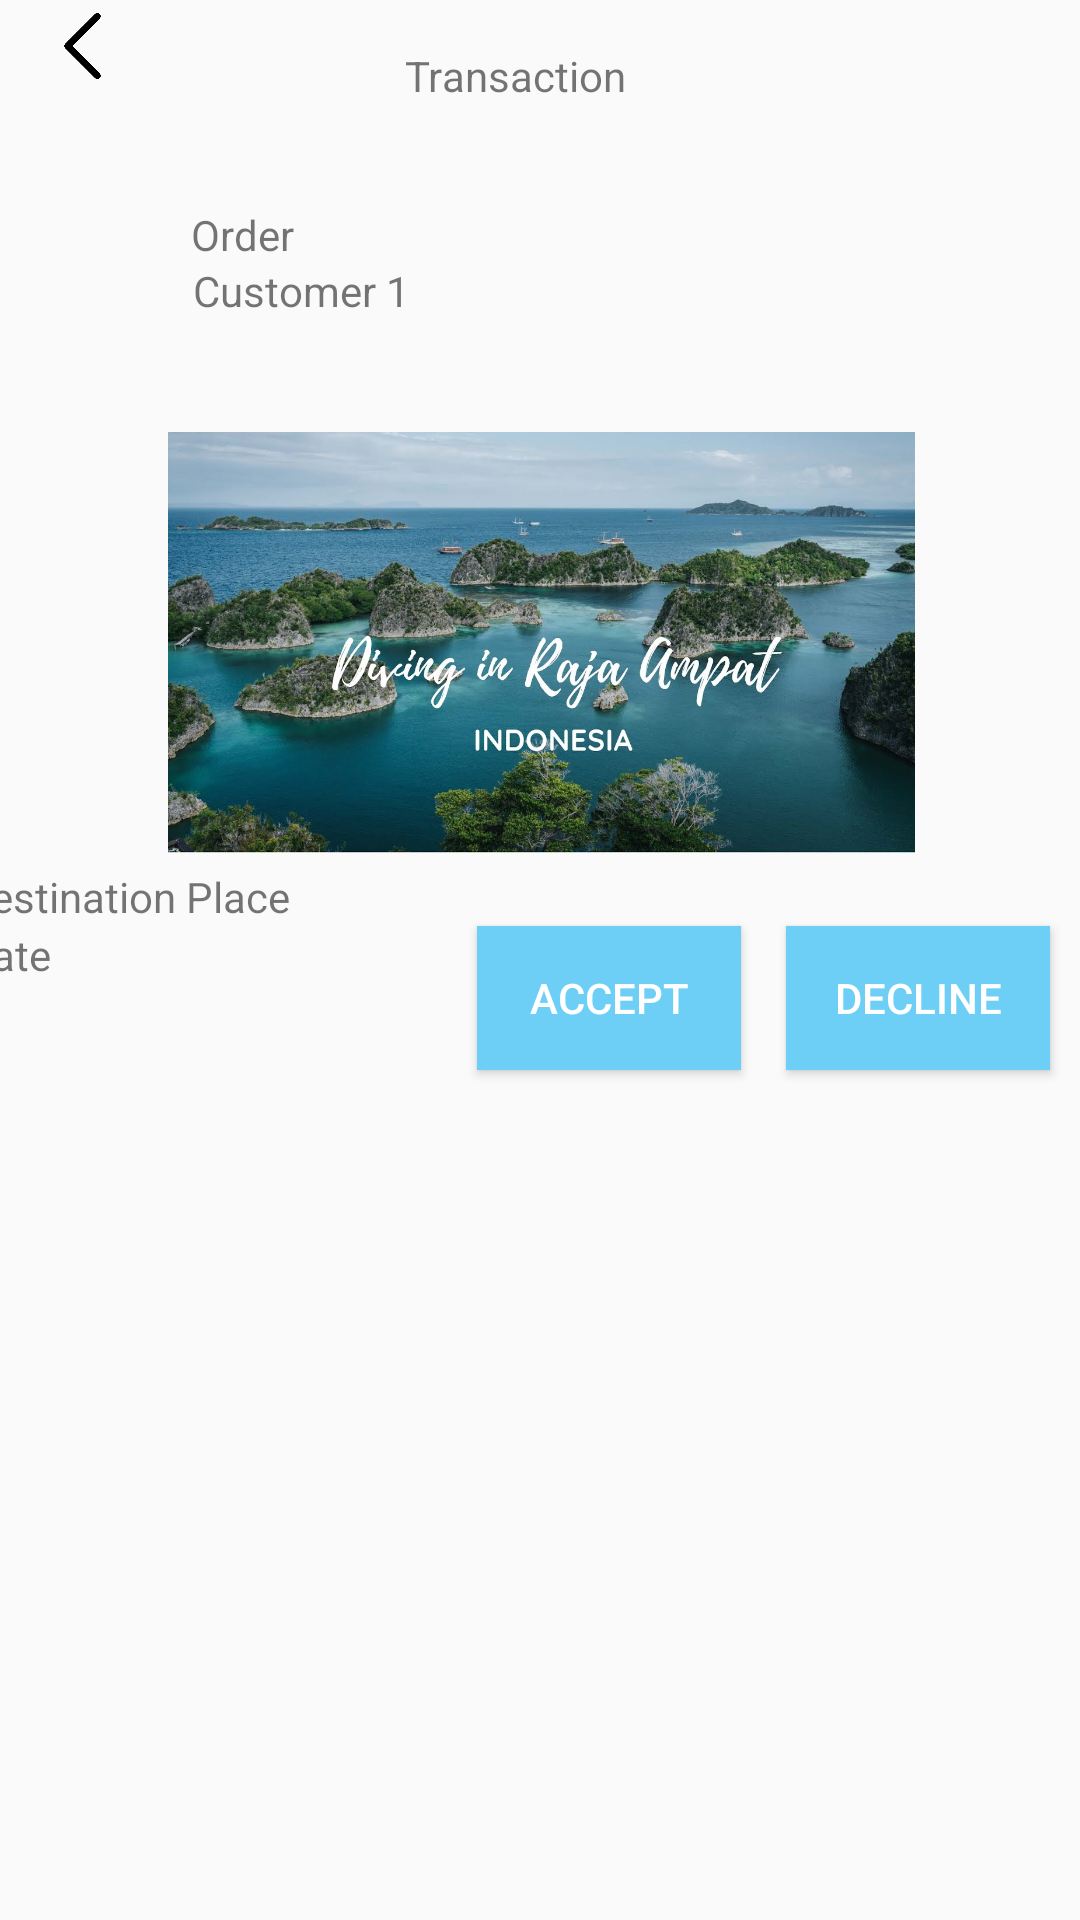

Locate icon controls on the screen. Image size 1080*1920, boxes as bbox(x1, y1, x2, y2).
back: bbox(64, 13, 101, 79)
